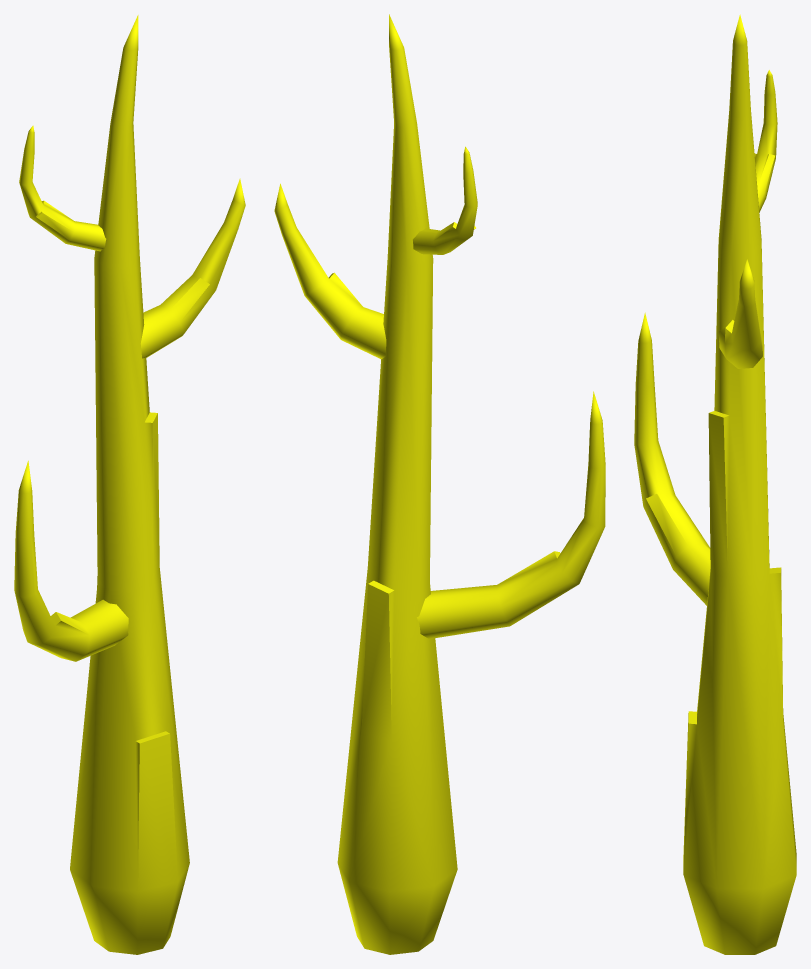
File: kaykit-tree-bare-2-a-color-1.glb
3 views of the same model, side by side, from view 1: azimuth 30°, elevation 25°; view 2: azimuth 150°, elevation 25°; view 3: azimuth 270°, elevation 25° (orthographic).
Visible parts, largest first — view 1: Tree_Bare_2_A_Color1; view 2: Tree_Bare_2_A_Color1; view 3: Tree_Bare_2_A_Color1.
Boxes of the visible parts, x1=… form: Tree_Bare_2_A_Color1: x1=14, y1=15, x2=245, y2=954; Tree_Bare_2_A_Color1: x1=274, y1=14, x2=605, y2=954; Tree_Bare_2_A_Color1: x1=634, y1=14, x2=796, y2=954.
Size of the model in its own units: 1.2 by 3.84 by 0.6.
